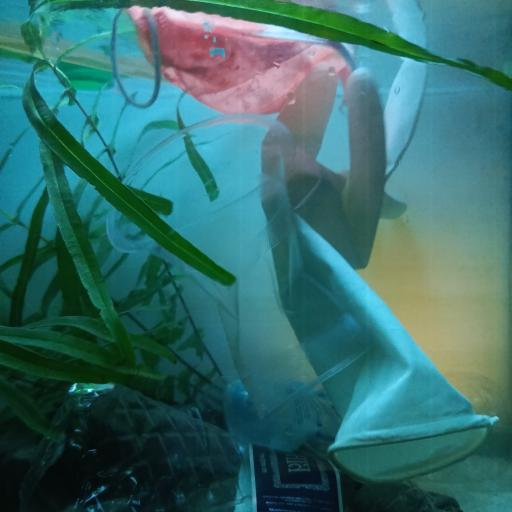glove: (264, 58, 496, 478)
mask: (111, 0, 355, 117)
plastic_bottle: (14, 378, 433, 512), (187, 376, 503, 476)
plastic_cup: (109, 109, 377, 420)
plastic_straw: (0, 36, 164, 82)
